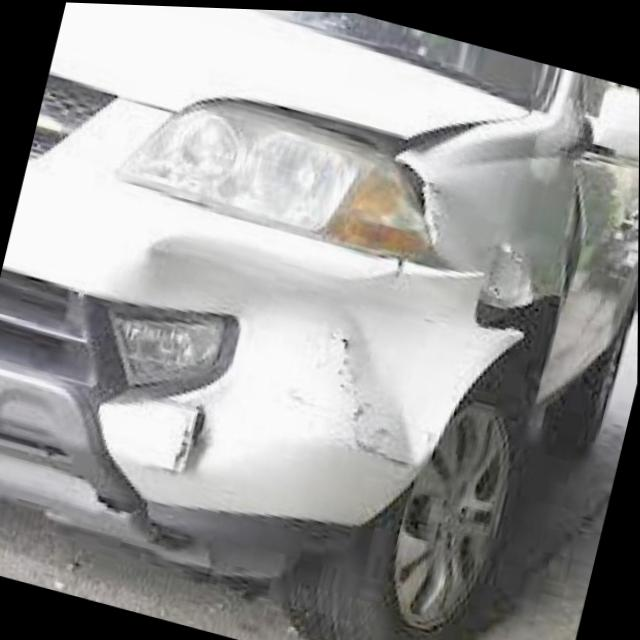Car-Damage: (72, 20, 608, 596)
